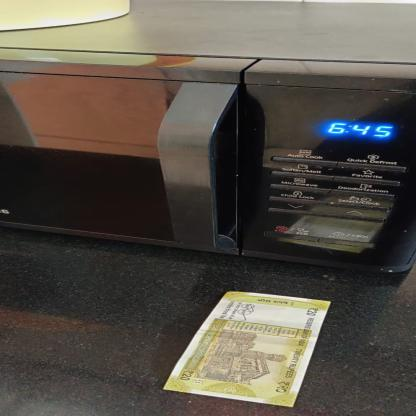New20Back: (157, 291, 334, 408)
